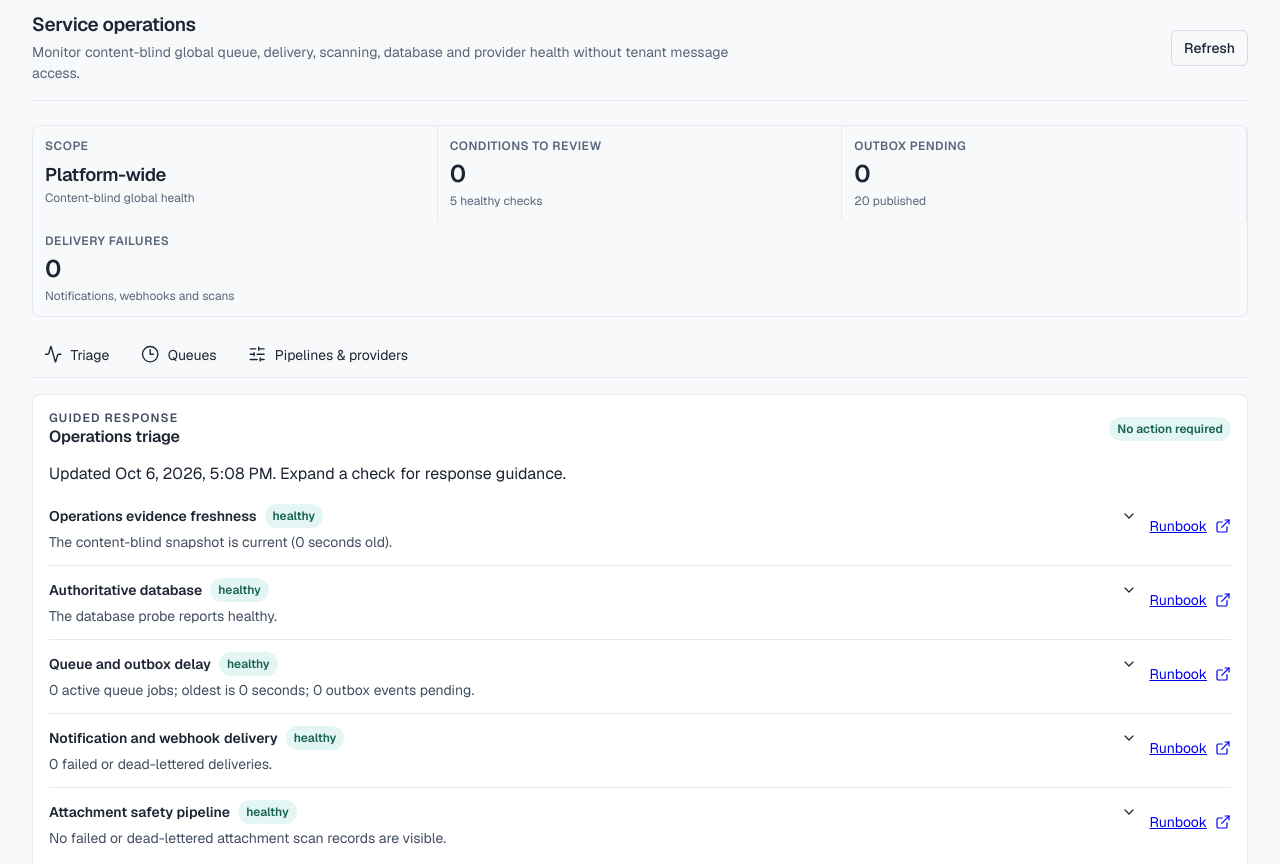
it: OpsPage › keeps healthy conditions and runbooks visible while secondary evidence stays compact
Expected: the text "No action required" is shown, [1109,417,1231,441]
Expected: the text "5 healthy checks" is shown, [450,193,542,209]
Click the link "Queues".
click(179, 355)  # box [141,346,216,364]
(page scrolled)
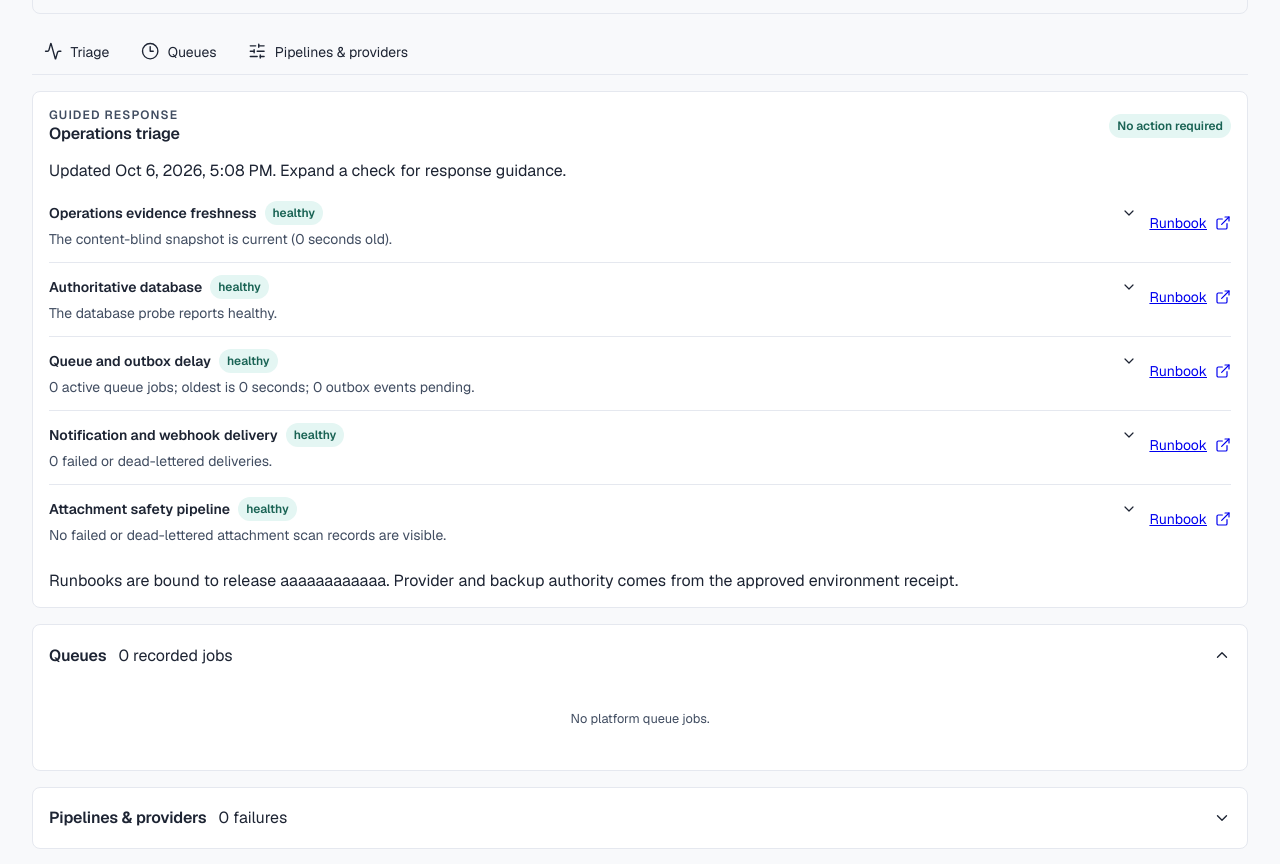
Result: the text "No platform queue jobs." is shown at [570,710,710,727]
Click the heading that starts with "Authoritative database".
click(126, 287)  # box [49,275,1137,324]
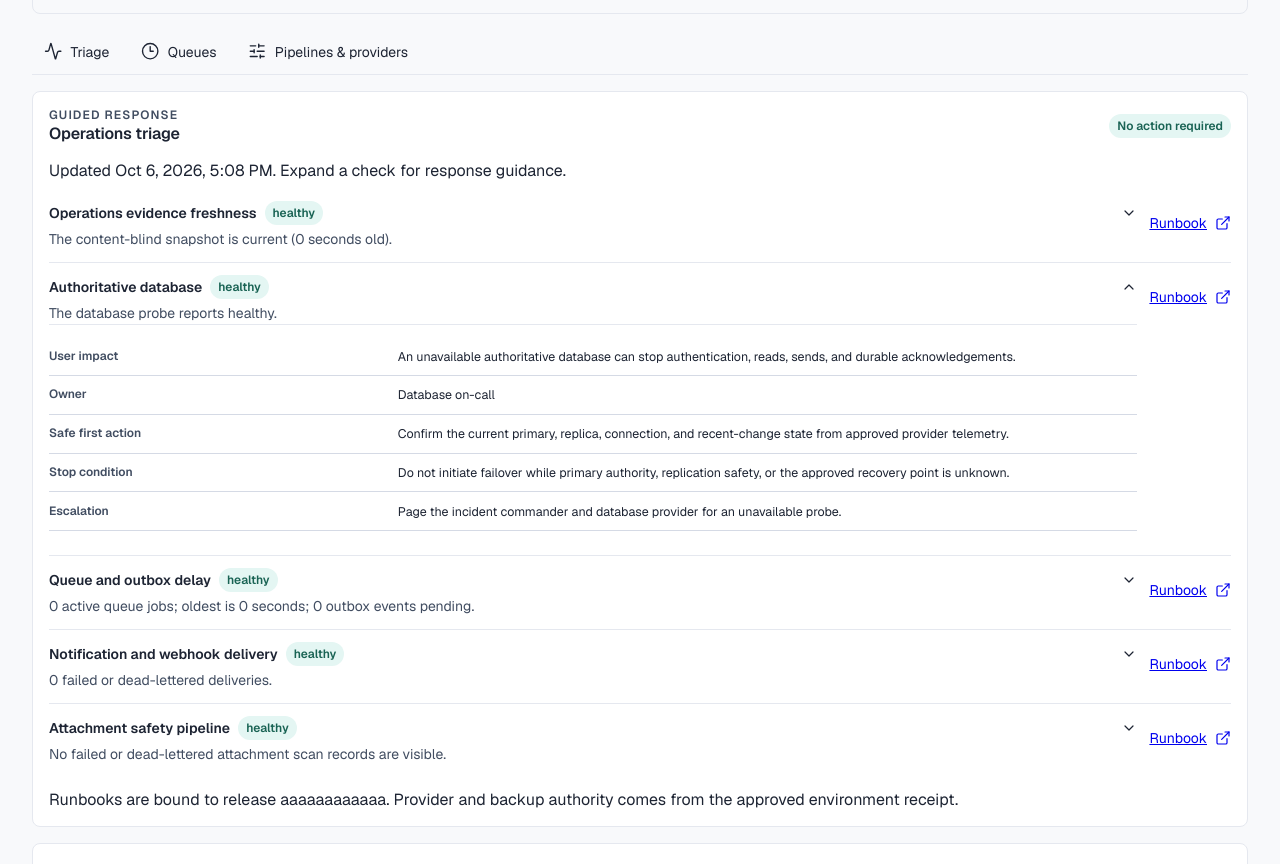
Result: the text "Stop condition" is shown at [49,464,133,480]
Result: the text "Escalation" is shown at [49,503,109,519]
